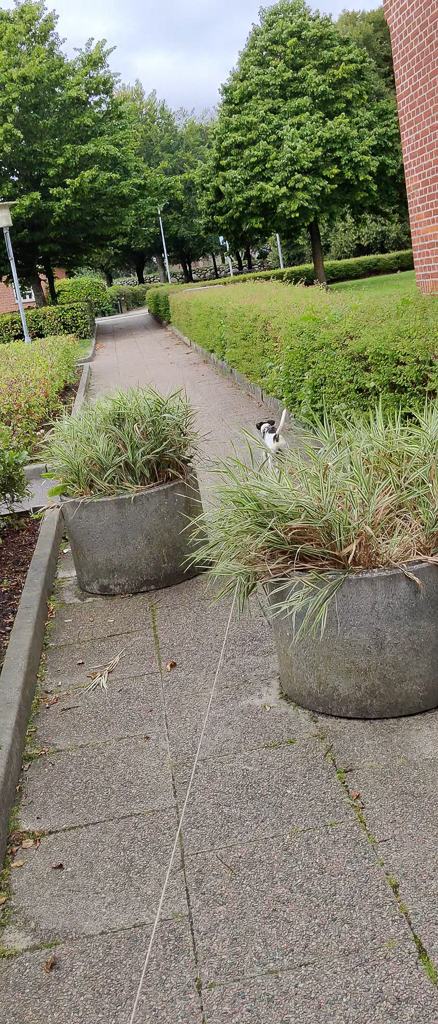Dog: (252, 403, 301, 476)
